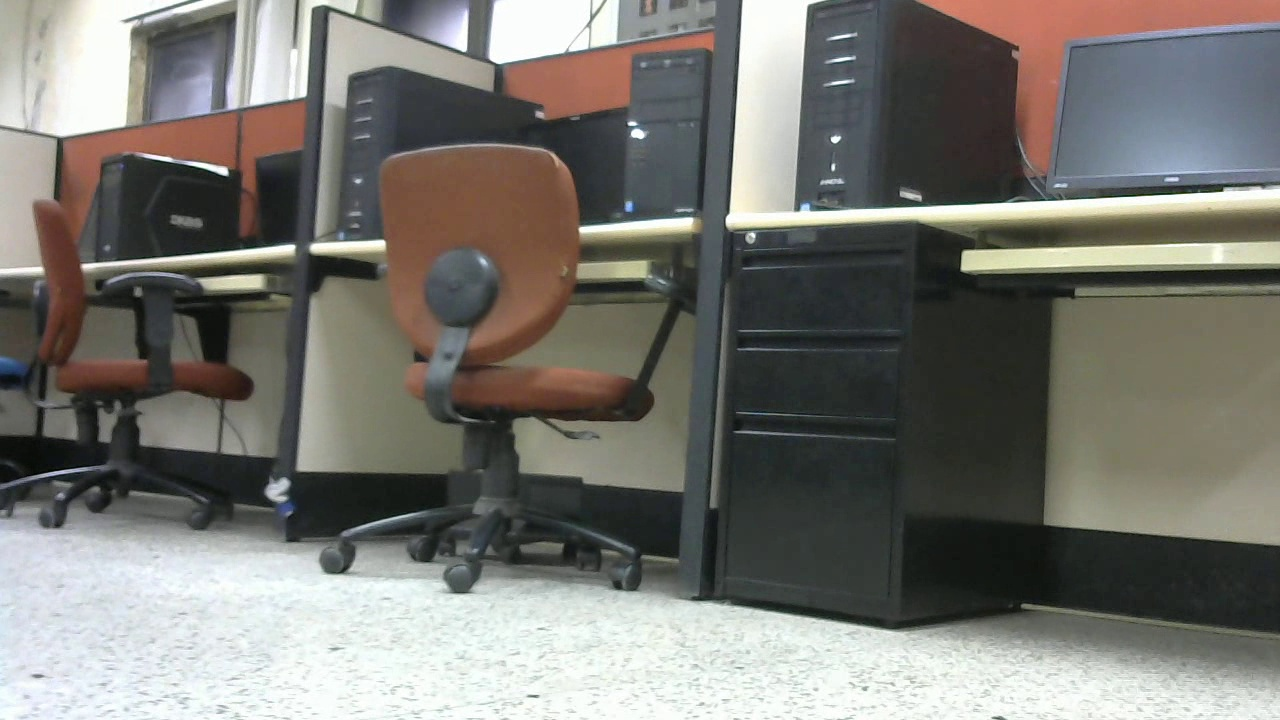chair: (319, 141, 695, 593), (1, 192, 254, 541)
